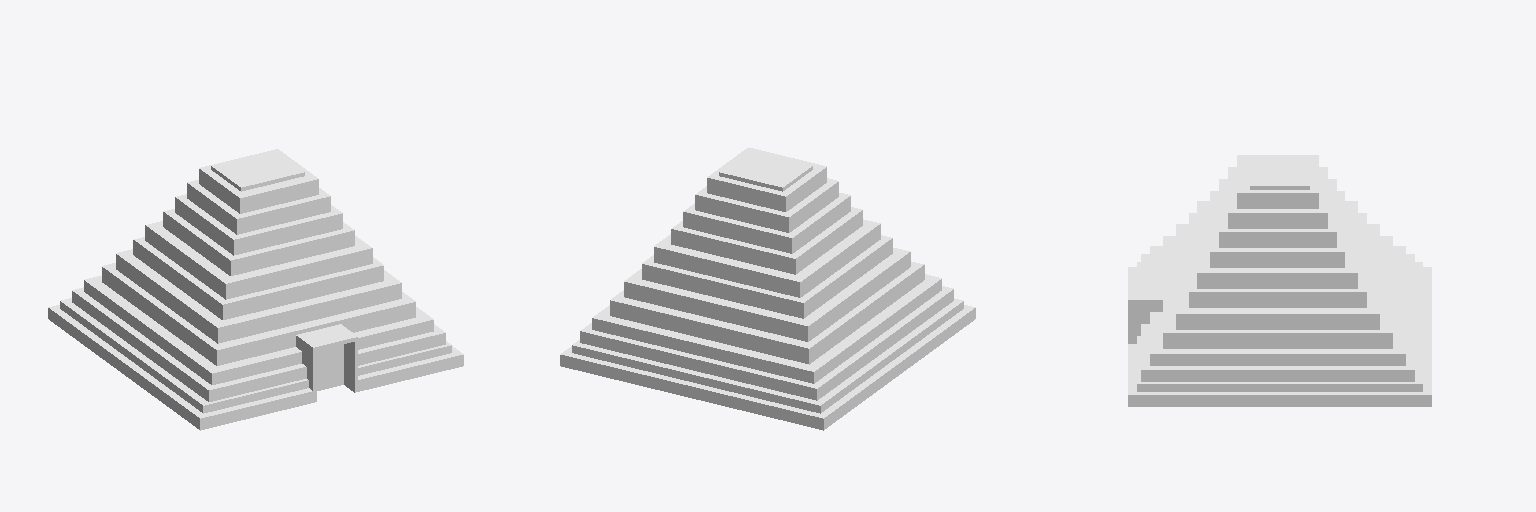
Rendered from пирамидка.obj.
3 views of the same model, side by side, from view 1: azimuth 30°, elevation 25°; view 2: azimuth 150°, elevation 25°; view 3: azimuth 270°, elevation 25° (orthographic).
Visible parts, largest first — view 1: object 1; view 2: object 1; view 3: object 1.
Boxes of the visible parts, box(x1,y1,x2,y2) form: object 1: box(48, 149, 463, 430); object 1: box(560, 147, 975, 430); object 1: box(1128, 155, 1431, 406).
Size of the model in its own units: 7 by 4.4 by 7.